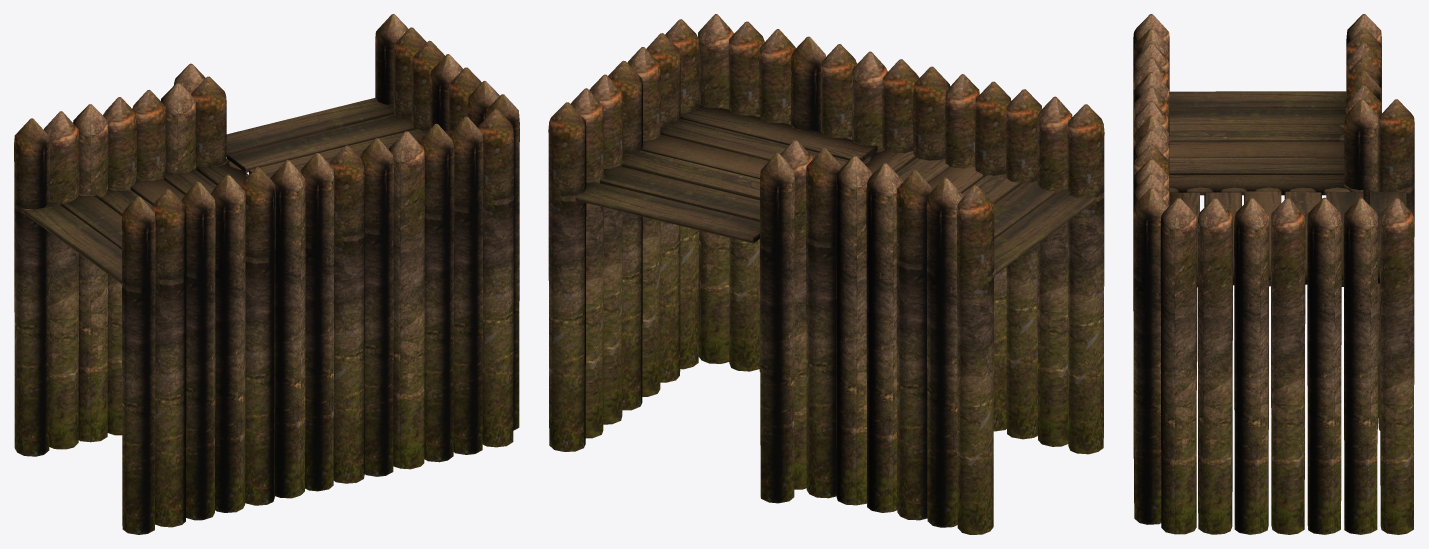
The model's file is Runway (up) curve (left) v2.FBX.
3 renders of one model, left to right at view 1: azimuth 30°, elevation 25°; view 2: azimuth 150°, elevation 25°; view 3: azimuth 270°, elevation 25°, orthographic. The views are drawn at different scales.
Visible parts, largest first — view 1: Runway (up) curve (left); view 2: Runway (up) curve (left); view 3: Runway (up) curve (left).
Part boxes in pixels (x1=…): Runway (up) curve (left): x1=14, y1=14, x2=519, y2=534; Runway (up) curve (left): x1=548, y1=14, x2=1104, y2=534; Runway (up) curve (left): x1=1133, y1=14, x2=1414, y2=534.
Size of the model in its own units: 175 by 135 by 105.
